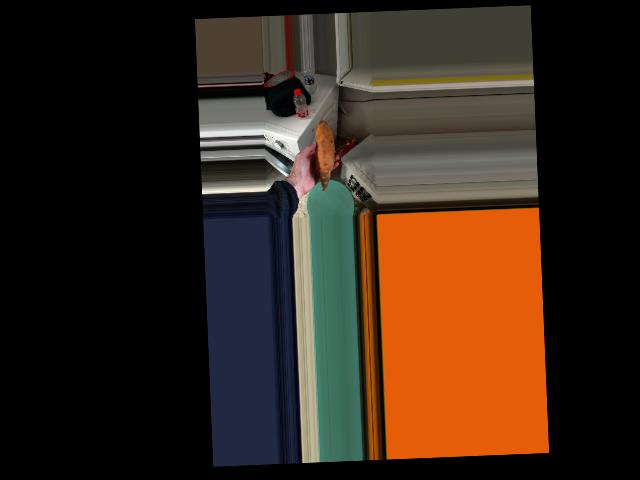sweet_potato: (309, 128, 332, 177)
